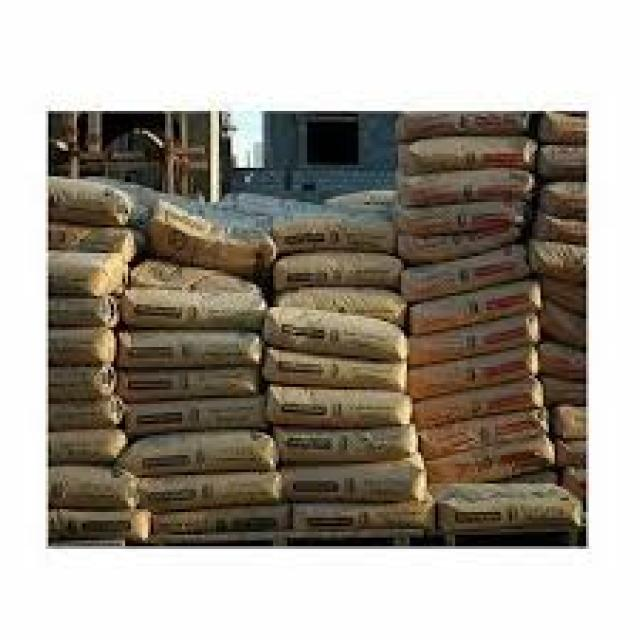cement_bag: (434, 480, 580, 536), (410, 343, 537, 398), (158, 209, 272, 269), (412, 280, 541, 331), (270, 307, 397, 355), (406, 246, 522, 297), (287, 461, 416, 503), (424, 409, 539, 456), (418, 378, 535, 424), (431, 433, 544, 480), (124, 398, 260, 436), (155, 503, 288, 541), (280, 423, 408, 462), (125, 289, 262, 325), (269, 351, 401, 388), (299, 498, 433, 534), (141, 473, 278, 508), (276, 387, 402, 425), (278, 214, 393, 254), (128, 430, 264, 463), (116, 331, 251, 364), (52, 175, 150, 218), (407, 172, 527, 205), (403, 202, 515, 237), (407, 225, 514, 261), (123, 366, 246, 397), (279, 292, 409, 321), (48, 252, 128, 297), (54, 466, 136, 508), (422, 135, 529, 165), (281, 253, 390, 282), (58, 508, 151, 540), (54, 422, 127, 462), (50, 328, 117, 367), (50, 363, 117, 402), (52, 294, 117, 328)
